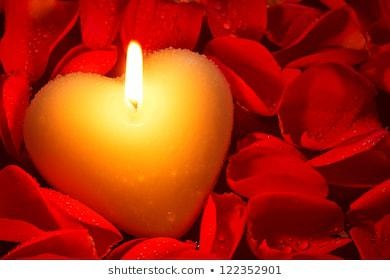fire: (122, 36, 145, 111)
